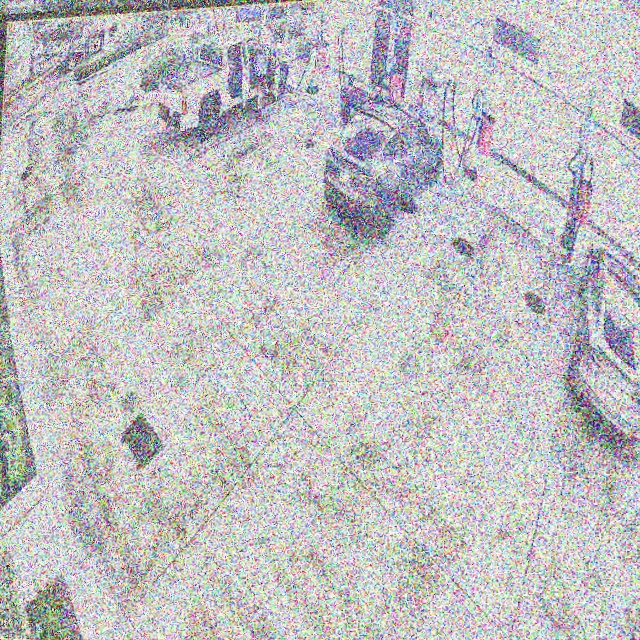Car: (321, 98, 446, 236)
